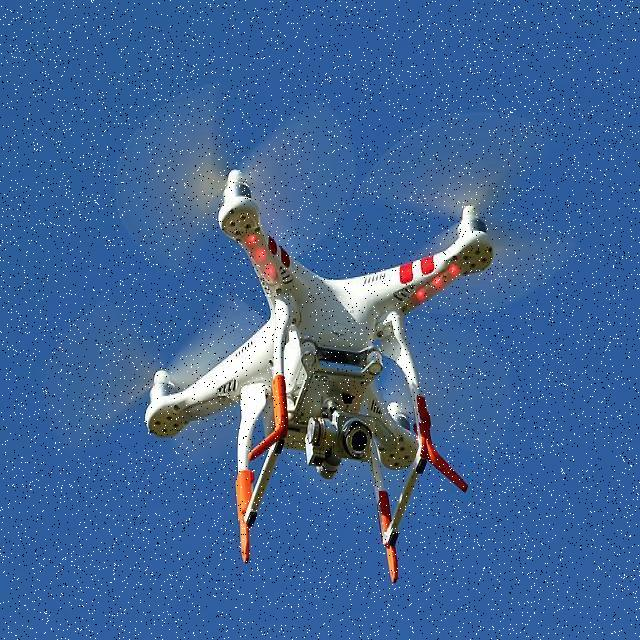UAV: (143, 161, 499, 583)
